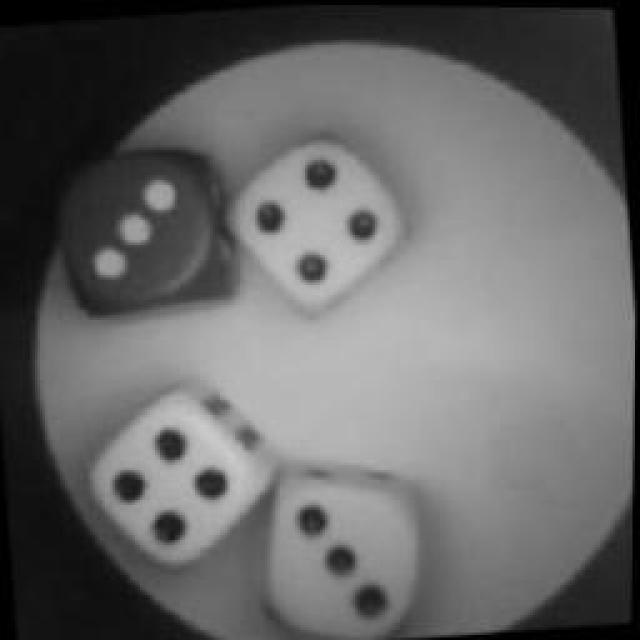dice_3: (252, 452, 430, 640), (48, 145, 234, 320)
dice_4: (84, 376, 274, 579), (235, 128, 410, 310)
